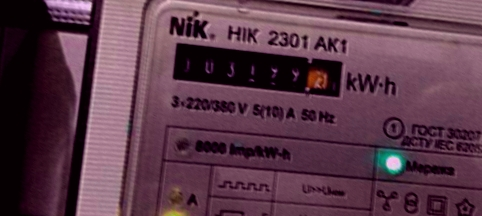0: (201, 58, 214, 79), (178, 56, 189, 75)
1: (245, 61, 256, 80)
3: (223, 61, 235, 82)
6: (310, 77, 322, 92)
9: (266, 63, 278, 84), (288, 67, 300, 87)
screen: (162, 34, 350, 110)
